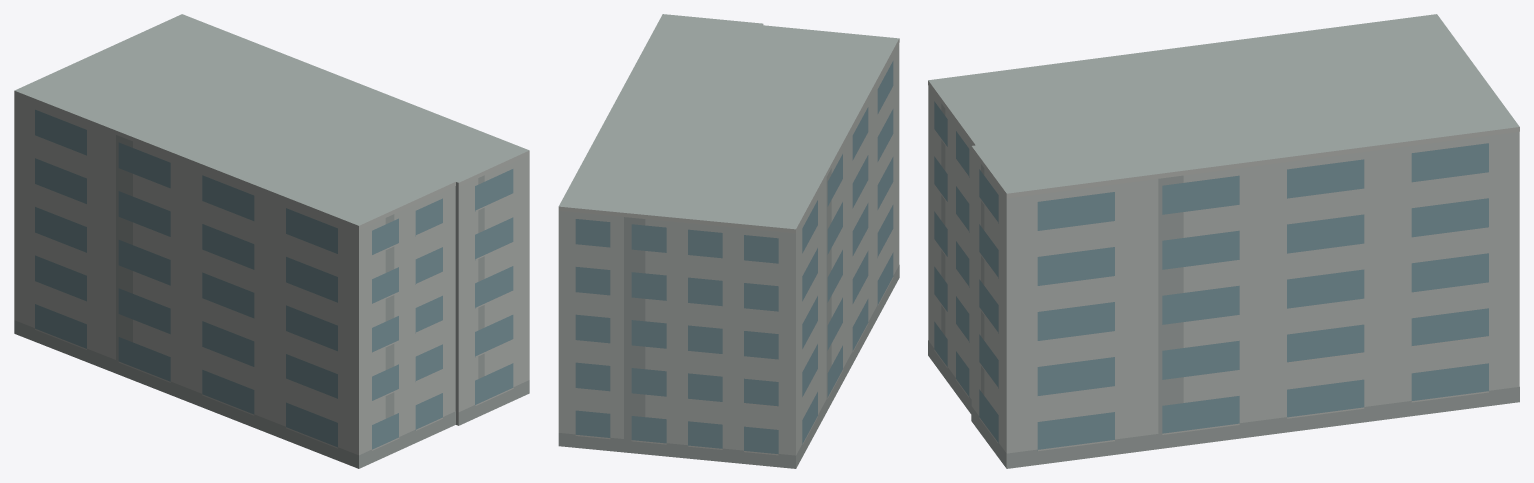
The model's file is survey-upis-32927960.glb.
3 views of the same model, side by side, from view 1: azimuth 30°, elevation 25°; view 2: azimuth 150°, elevation 25°; view 3: azimuth 270°, elevation 25° (orthographic). The views are drawn at different scales.
Visible parts, largest first — view 1: survey-upis-32927960.tmp; view 2: survey-upis-32927960.tmp; view 3: survey-upis-32927960.tmp.
Boxes of the visible parts, x1,y1,x2,y2 form: survey-upis-32927960.tmp: [14, 14, 529, 468]; survey-upis-32927960.tmp: [558, 14, 899, 468]; survey-upis-32927960.tmp: [928, 14, 1519, 468].
Bounding box in the file's own units: 19.48 × 13.9 × 27.1.
